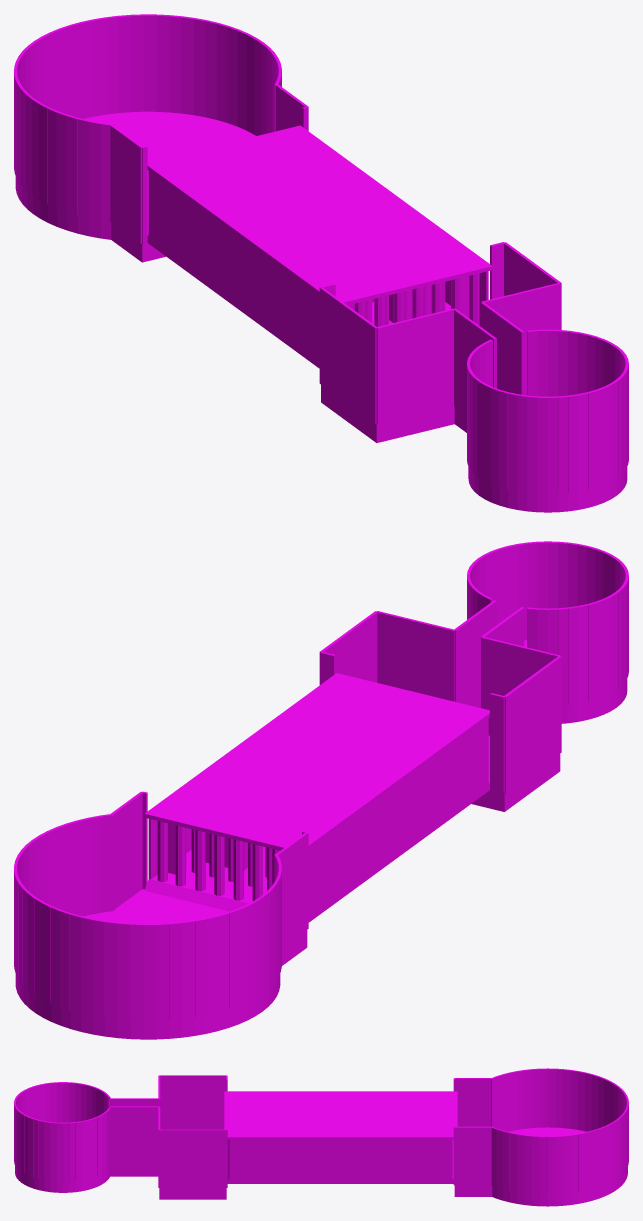
Rendered from TempleStage_Coll.fbx.
3 renders of one model, top to bottom at view 1: azimuth 30°, elevation 25°; view 2: azimuth 150°, elevation 25°; view 3: azimuth 270°, elevation 25°, orthographic. The views are drawn at different scales.
Parts seen in each view (by area): view 1: Coll_Ground, Coll_Temple; view 2: Coll_Ground, Coll_Temple; view 3: Coll_Ground, Coll_Temple.
Part boxes in pixels (x1,y1,x2,y2): Coll_Ground: [14, 14, 628, 512]; Coll_Temple: [147, 125, 492, 368]; Coll_Ground: [14, 541, 628, 1039]; Coll_Temple: [144, 673, 489, 922]; Coll_Ground: [14, 1068, 628, 1206]; Coll_Temple: [224, 1091, 457, 1183].
Size of the model in its own units: 5060 by 2400 by 19160.
